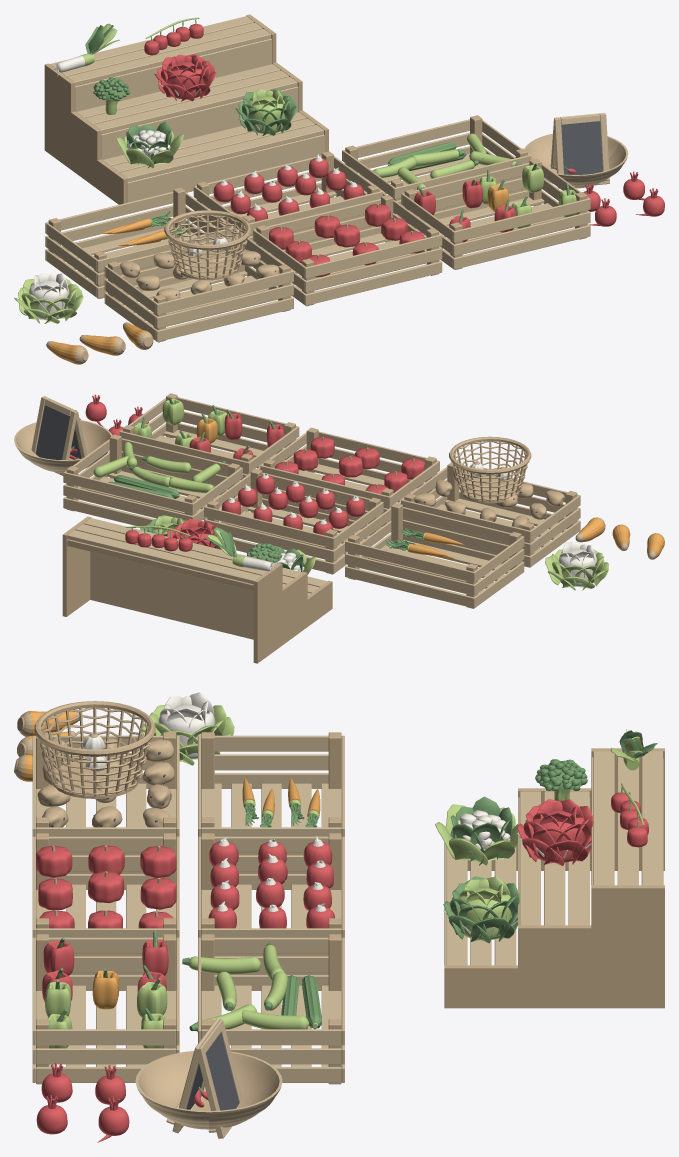
Rendered from fresh-produce-and-groceries-market-vegetable-stall-fdf54b43__24462.glb.
3 renders of one model, top to bottom at view 1: azimuth 30°, elevation 25°; view 2: azimuth 150°, elevation 25°; view 3: azimuth 270°, elevation 25°, orthographic. The views are drawn at different scales.
Visible parts, largest first — view 1: 060-tiered-produce-riser/1, 002-wooden-produce-crate/1, 000-wooden-produce-crate/1, 001-wooden-produce-crate/1, 003-wooden-produce-crate/1, 060-tiered-produce-riser/0, 005-wooden-produce-crate/1, 004-wooden-produce-crate/1, 067-wicker-display-basket/0, 080-chalkboard-price-sign/1, 067-wicker-display-basket/1, 072-iceberg-lettuce/1 (+22 smaller); view 2: 060-tiered-produce-riser/1, 003-wooden-produce-crate/1, 060-tiered-produce-riser/0, 005-wooden-produce-crate/1, 004-wooden-produce-crate/1, 000-wooden-produce-crate/1, 002-wooden-produce-crate/1, 001-wooden-produce-crate/1, 067-wicker-display-basket/0, 067-wicker-display-basket/1, 080-chalkboard-price-sign/1, 072-iceberg-lettuce/1 (+24 smaller); view 3: 060-tiered-produce-riser/0, 060-tiered-produce-riser/1, 002-wooden-produce-crate/1, 005-wooden-produce-crate/1, 003-wooden-produce-crate/1, 001-wooden-produce-crate/1, 004-wooden-produce-crate/1, 067-wicker-display-basket/0, 000-wooden-produce-crate/1, 070-wooden-market-bowl/1, 067-wicker-display-basket/1, 070-wooden-market-bowl/0 (+37 smaller).
Part boxes in pixels (x1,y1,x2,y2): 060-tiered-produce-riser/1: (50, 16, 324, 202); 002-wooden-produce-crate/1: (401, 162, 590, 269); 000-wooden-produce-crate/1: (104, 236, 293, 341); 001-wooden-produce-crate/1: (253, 199, 442, 305); 003-wooden-produce-crate/1: (45, 191, 233, 298); 060-tiered-produce-riser/0: (44, 14, 328, 204); 005-wooden-produce-crate/1: (342, 119, 531, 218); 004-wooden-produce-crate/1: (193, 155, 382, 252); 067-wicker-display-basket/0: (164, 210, 251, 280); 080-chalkboard-price-sign/1: (561, 121, 602, 174); 067-wicker-display-basket/1: (168, 215, 246, 277); 072-iceberg-lettuce/1: (14, 278, 83, 323); 060-tiered-produce-riser/1: (67, 518, 327, 639); 003-wooden-produce-crate/1: (345, 507, 524, 608); 060-tiered-produce-riser/0: (62, 516, 332, 663); 005-wooden-produce-crate/1: (63, 438, 242, 525); 004-wooden-produce-crate/1: (204, 472, 383, 573); 000-wooden-produce-crate/1: (401, 467, 580, 567); 002-wooden-produce-crate/1: (119, 397, 299, 489); 001-wooden-produce-crate/1: (260, 431, 439, 532); 067-wicker-display-basket/0: (449, 436, 531, 503); 067-wicker-display-basket/1: (453, 441, 527, 500); 080-chalkboard-price-sign/1: (35, 405, 81, 459); 072-iceberg-lettuce/1: (545, 549, 608, 590); 060-tiered-produce-riser/0: (444, 748, 664, 1008); 060-tiered-produce-riser/1: (444, 751, 662, 965); 002-wooden-produce-crate/1: (32, 937, 179, 1082); 005-wooden-produce-crate/1: (198, 937, 344, 1082); 003-wooden-produce-crate/1: (198, 735, 344, 873); 001-wooden-produce-crate/1: (32, 836, 179, 974); 004-wooden-produce-crate/1: (198, 836, 344, 974); 067-wicker-display-basket/0: (34, 701, 155, 798); 000-wooden-produce-crate/1: (32, 735, 179, 873); 070-wooden-market-bowl/1: (138, 1052, 279, 1110); 067-wicker-display-basket/1: (40, 707, 149, 795); 070-wooden-market-bowl/0: (135, 1051, 282, 1129).
Size of the model in its own units: 2.72 by 0.5062 by 1.77.
